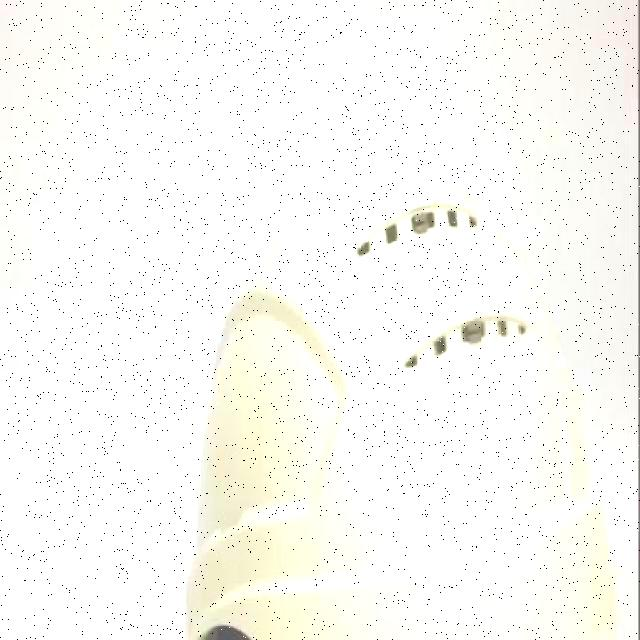Helmet: (182, 158, 618, 640)
